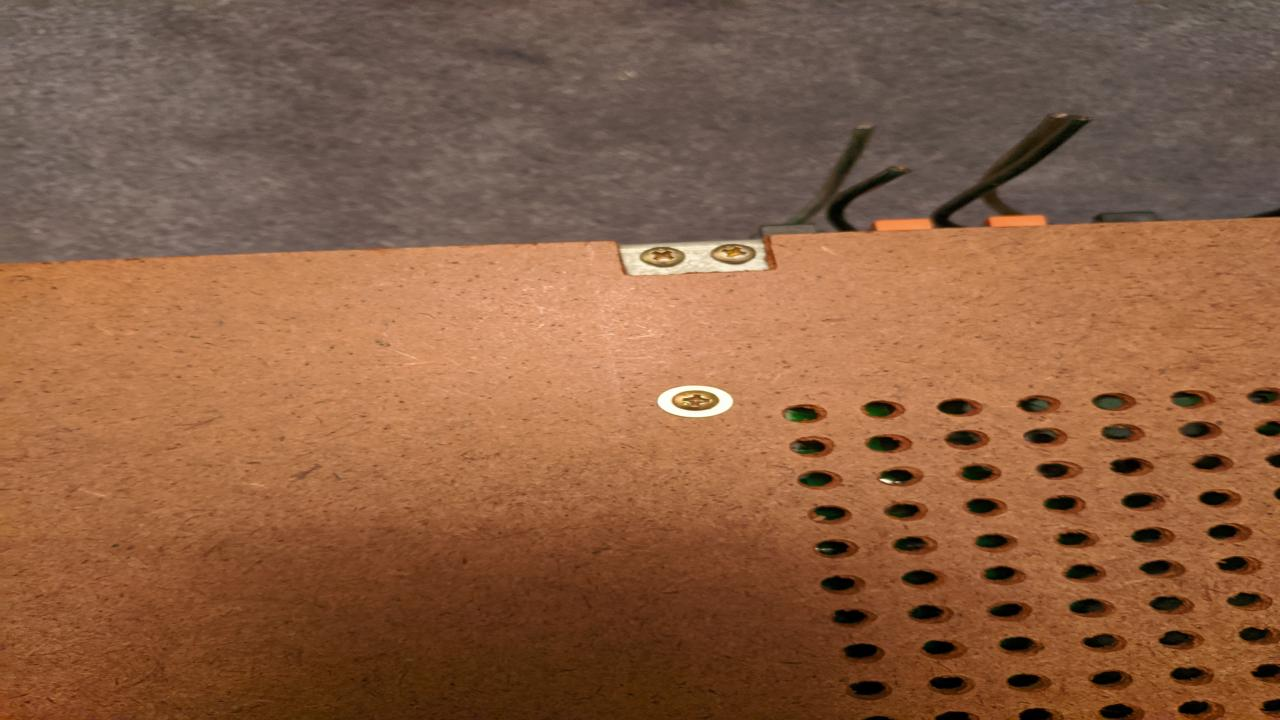CRS: (669, 389, 719, 411), (709, 242, 755, 265), (640, 245, 688, 267)
